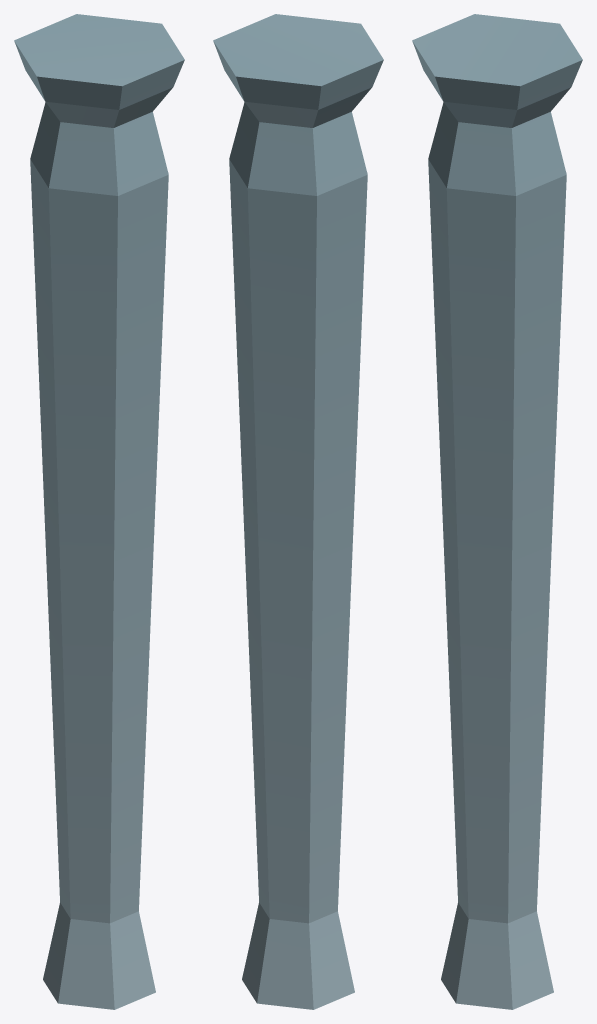
File: Column.fbx
3 renders of one model, left to right at view 1: azimuth 30°, elevation 25°; view 2: azimuth 150°, elevation 25°; view 3: azimuth 270°, elevation 25°, orthographic.
Parts seen in each view (by area): view 1: Column_LOD0; view 2: Column_LOD0; view 3: Column_LOD0.
Boxes of the visible parts, x1,y1,x2,y2 form: Column_LOD0: (14, 14, 184, 1009); Column_LOD0: (213, 14, 383, 1009); Column_LOD0: (412, 14, 582, 1009).
Size of the model in its own units: 80.98 by 489 by 80.98.
